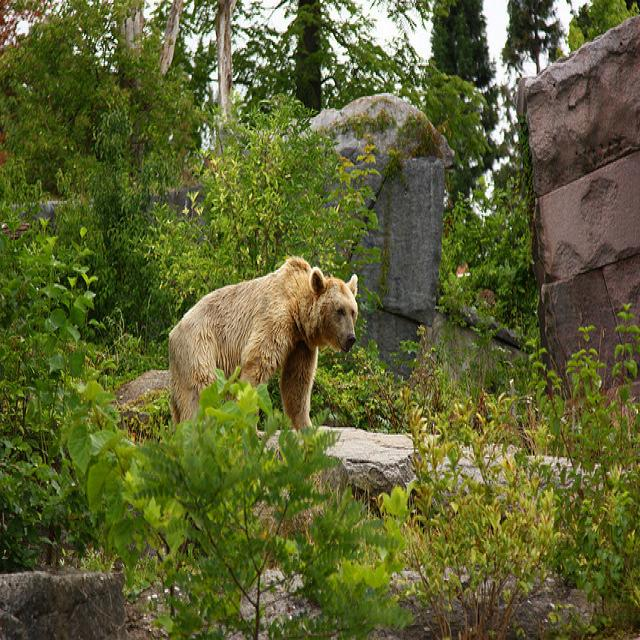Bear: (151, 262, 366, 438)
